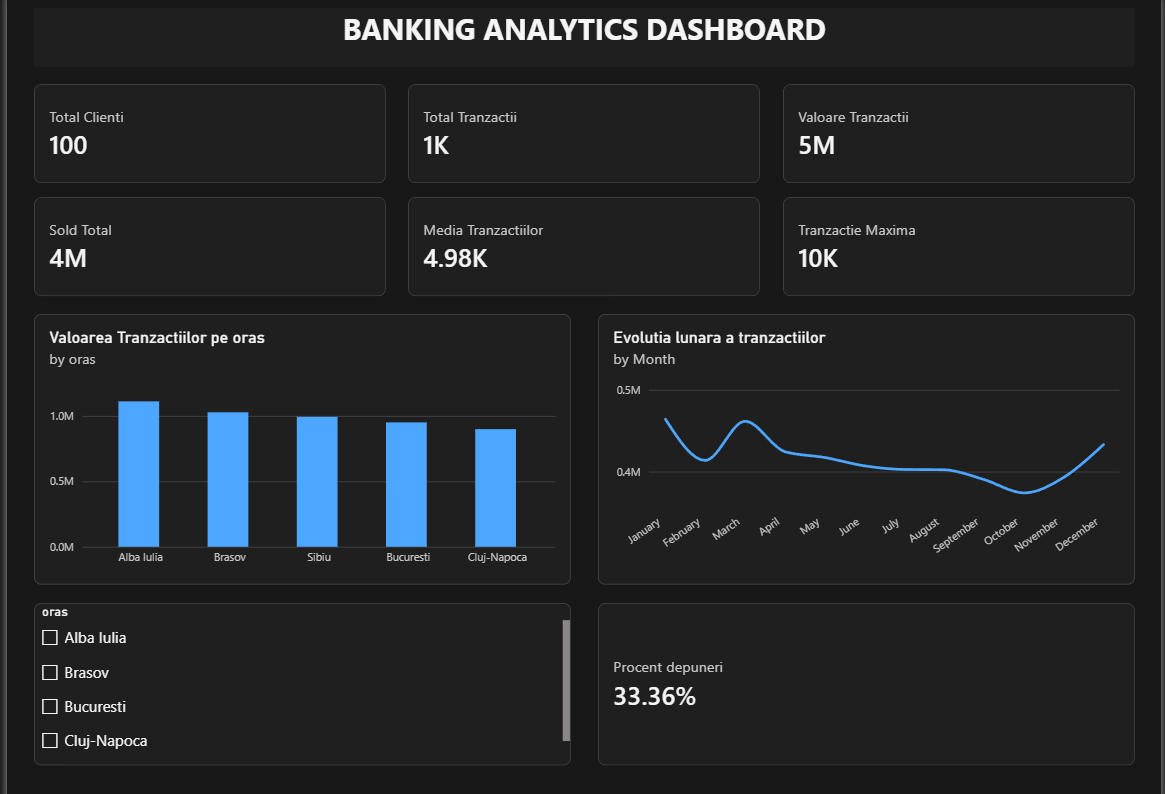

This screenshot's page, from the dashboard's own definition file:
{"tool":"powerbi","page":{"name":"Banking Overview","canvas":[1280,900],"ordinal":0},"visuals":[{"type":"cardVisual","fields":{"Data":["tranzactii.Total Tranzactii"]},"box":[445,100,390,110],"z":1000},{"type":"cardVisual","fields":{"Data":["clienti.Total Clienti"]},"box":[30,100,390,110],"z":2000},{"type":"cardVisual","fields":{"Data":["tranzactii.Media Tranzactiilor"]},"box":[445,225,390,110],"z":3000},{"type":"cardVisual","fields":{"Data":["tranzactii.Tranzactie Maxima"]},"box":[860,225,390,110],"z":4000},{"type":"cardVisual","fields":{"Data":["tranzactii.Procent depuneri"]},"box":[655,675,595,180],"z":5000},{"type":"cardVisual","fields":{"Data":["tranzactii.Valoare Tranzactii"]},"box":[860,100,390,110],"z":6000},{"type":"clusteredColumnChart","fields":{"Category":["clienti.oras"],"Y":["tranzactii.Valoare Tranzactii"]},"box":[30,355,595,300],"z":7000},{"type":"slicer","fields":{"Values":["clienti.oras"]},"box":[30,675,595,180],"z":8000},{"type":"lineChart","fields":{"Category":["tranzactii.data_tranzactie.Variation.Date Hierarchy.Month"],"Y":["tranzactii.Valoare Tranzactii"]},"box":[655,355,595,300],"z":8001},{"type":"cardVisual","fields":{"Data":["clienti.Sold Total"]},"box":[30,225,390,110],"z":8002},{"type":"textbox","box":[30,15,1220,65],"z":8003}]}

Visuals, with their boxes in screenshot pixels (x1, y1, x2, y2):
cardVisual - tranzactii.Total Tranzactii: pyautogui.locateOnScreen(432, 39, 784, 138)
cardVisual - clienti.Total Clienti: pyautogui.locateOnScreen(57, 39, 410, 138)
cardVisual - tranzactii.Media Tranzactiilor: pyautogui.locateOnScreen(432, 152, 784, 251)
cardVisual - tranzactii.Tranzactie Maxima: pyautogui.locateOnScreen(807, 152, 1159, 251)
cardVisual - tranzactii.Procent depuneri: pyautogui.locateOnScreen(622, 558, 1159, 720)
cardVisual - tranzactii.Valoare Tranzactii: pyautogui.locateOnScreen(807, 39, 1159, 138)
clusteredColumnChart - clienti.oras x tranzactii.Valoare Tranzactii: pyautogui.locateOnScreen(57, 269, 595, 540)
slicer - clienti.oras: pyautogui.locateOnScreen(57, 558, 595, 720)
lineChart - tranzactii.data_tranzactie.Variation.Date Hierarchy.Month x tranzactii.Valoare Tranzactii: pyautogui.locateOnScreen(622, 269, 1159, 540)
cardVisual - clienti.Sold Total: pyautogui.locateOnScreen(57, 152, 410, 251)
textbox: pyautogui.locateOnScreen(57, 0, 1159, 21)
